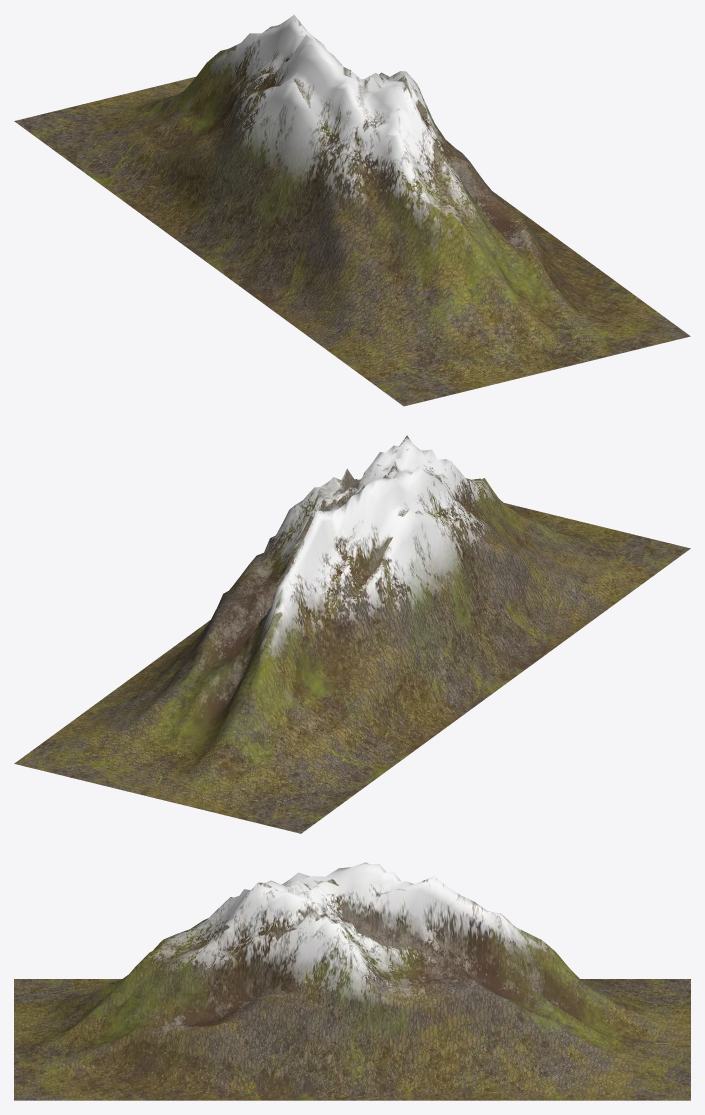
File: mountain2.glb
The picture shows the model from 3 angles, top to bottom: view 1: azimuth 30°, elevation 25°; view 2: azimuth 150°, elevation 25°; view 3: azimuth 270°, elevation 25°; orthographic projection. The views are drawn at different scales.
Visible parts, largest first — view 1: Object_2; view 2: Object_2; view 3: Object_2.
Part boxes in pixels (x1,y1,x2,y2): Object_2: [14, 14, 690, 406]; Object_2: [14, 435, 690, 833]; Object_2: [14, 862, 690, 1100].
Bounding box in the file's own units: 600 × 376 × 1411.
Materials: 1 (1 with a texture image).
